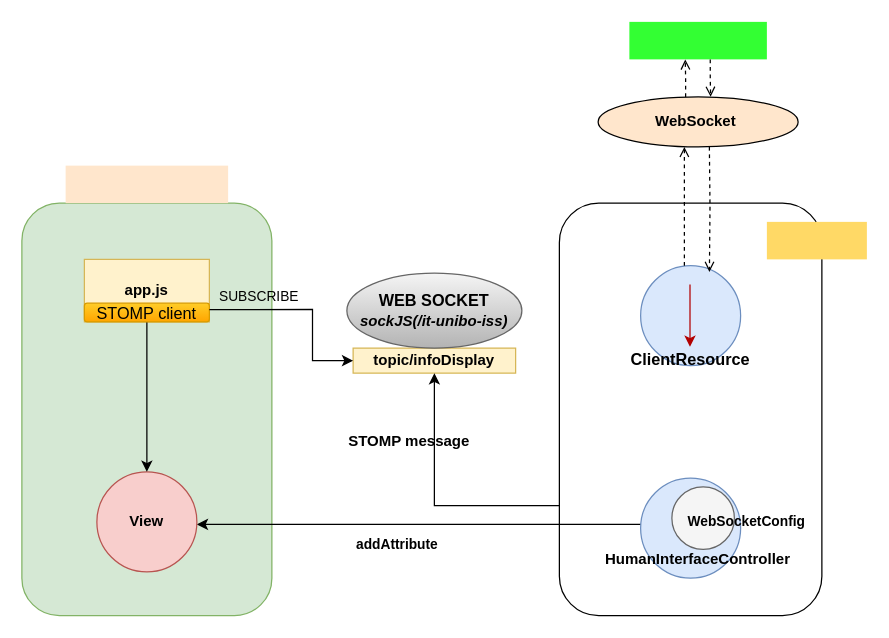
Some shapes in this 889 by 638 pixel diagram are drawn without their labels. The shapes that lost their labels are listed below. From the top down, each one's centre as x and y in pixels, then its label:
At point 697,40: "localhost:5683".
At point 146,183: "Browser on 8081".
At point 816,240: "clientGUI".
